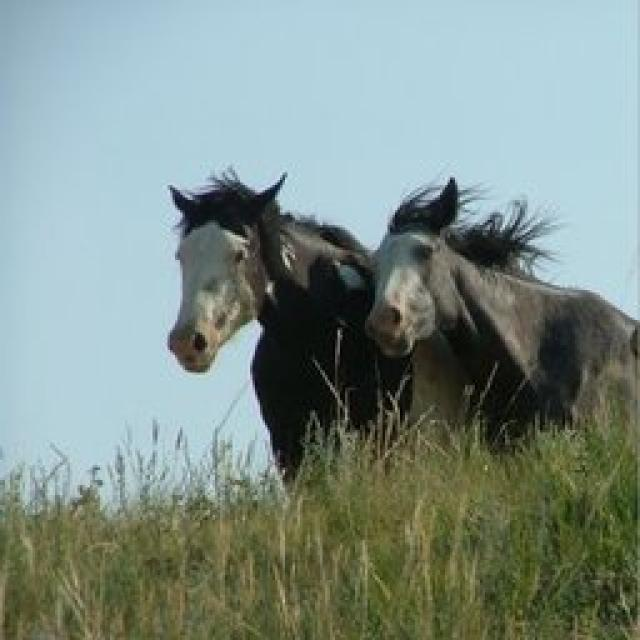not_pig: (165, 165, 415, 490), (362, 172, 638, 460)
